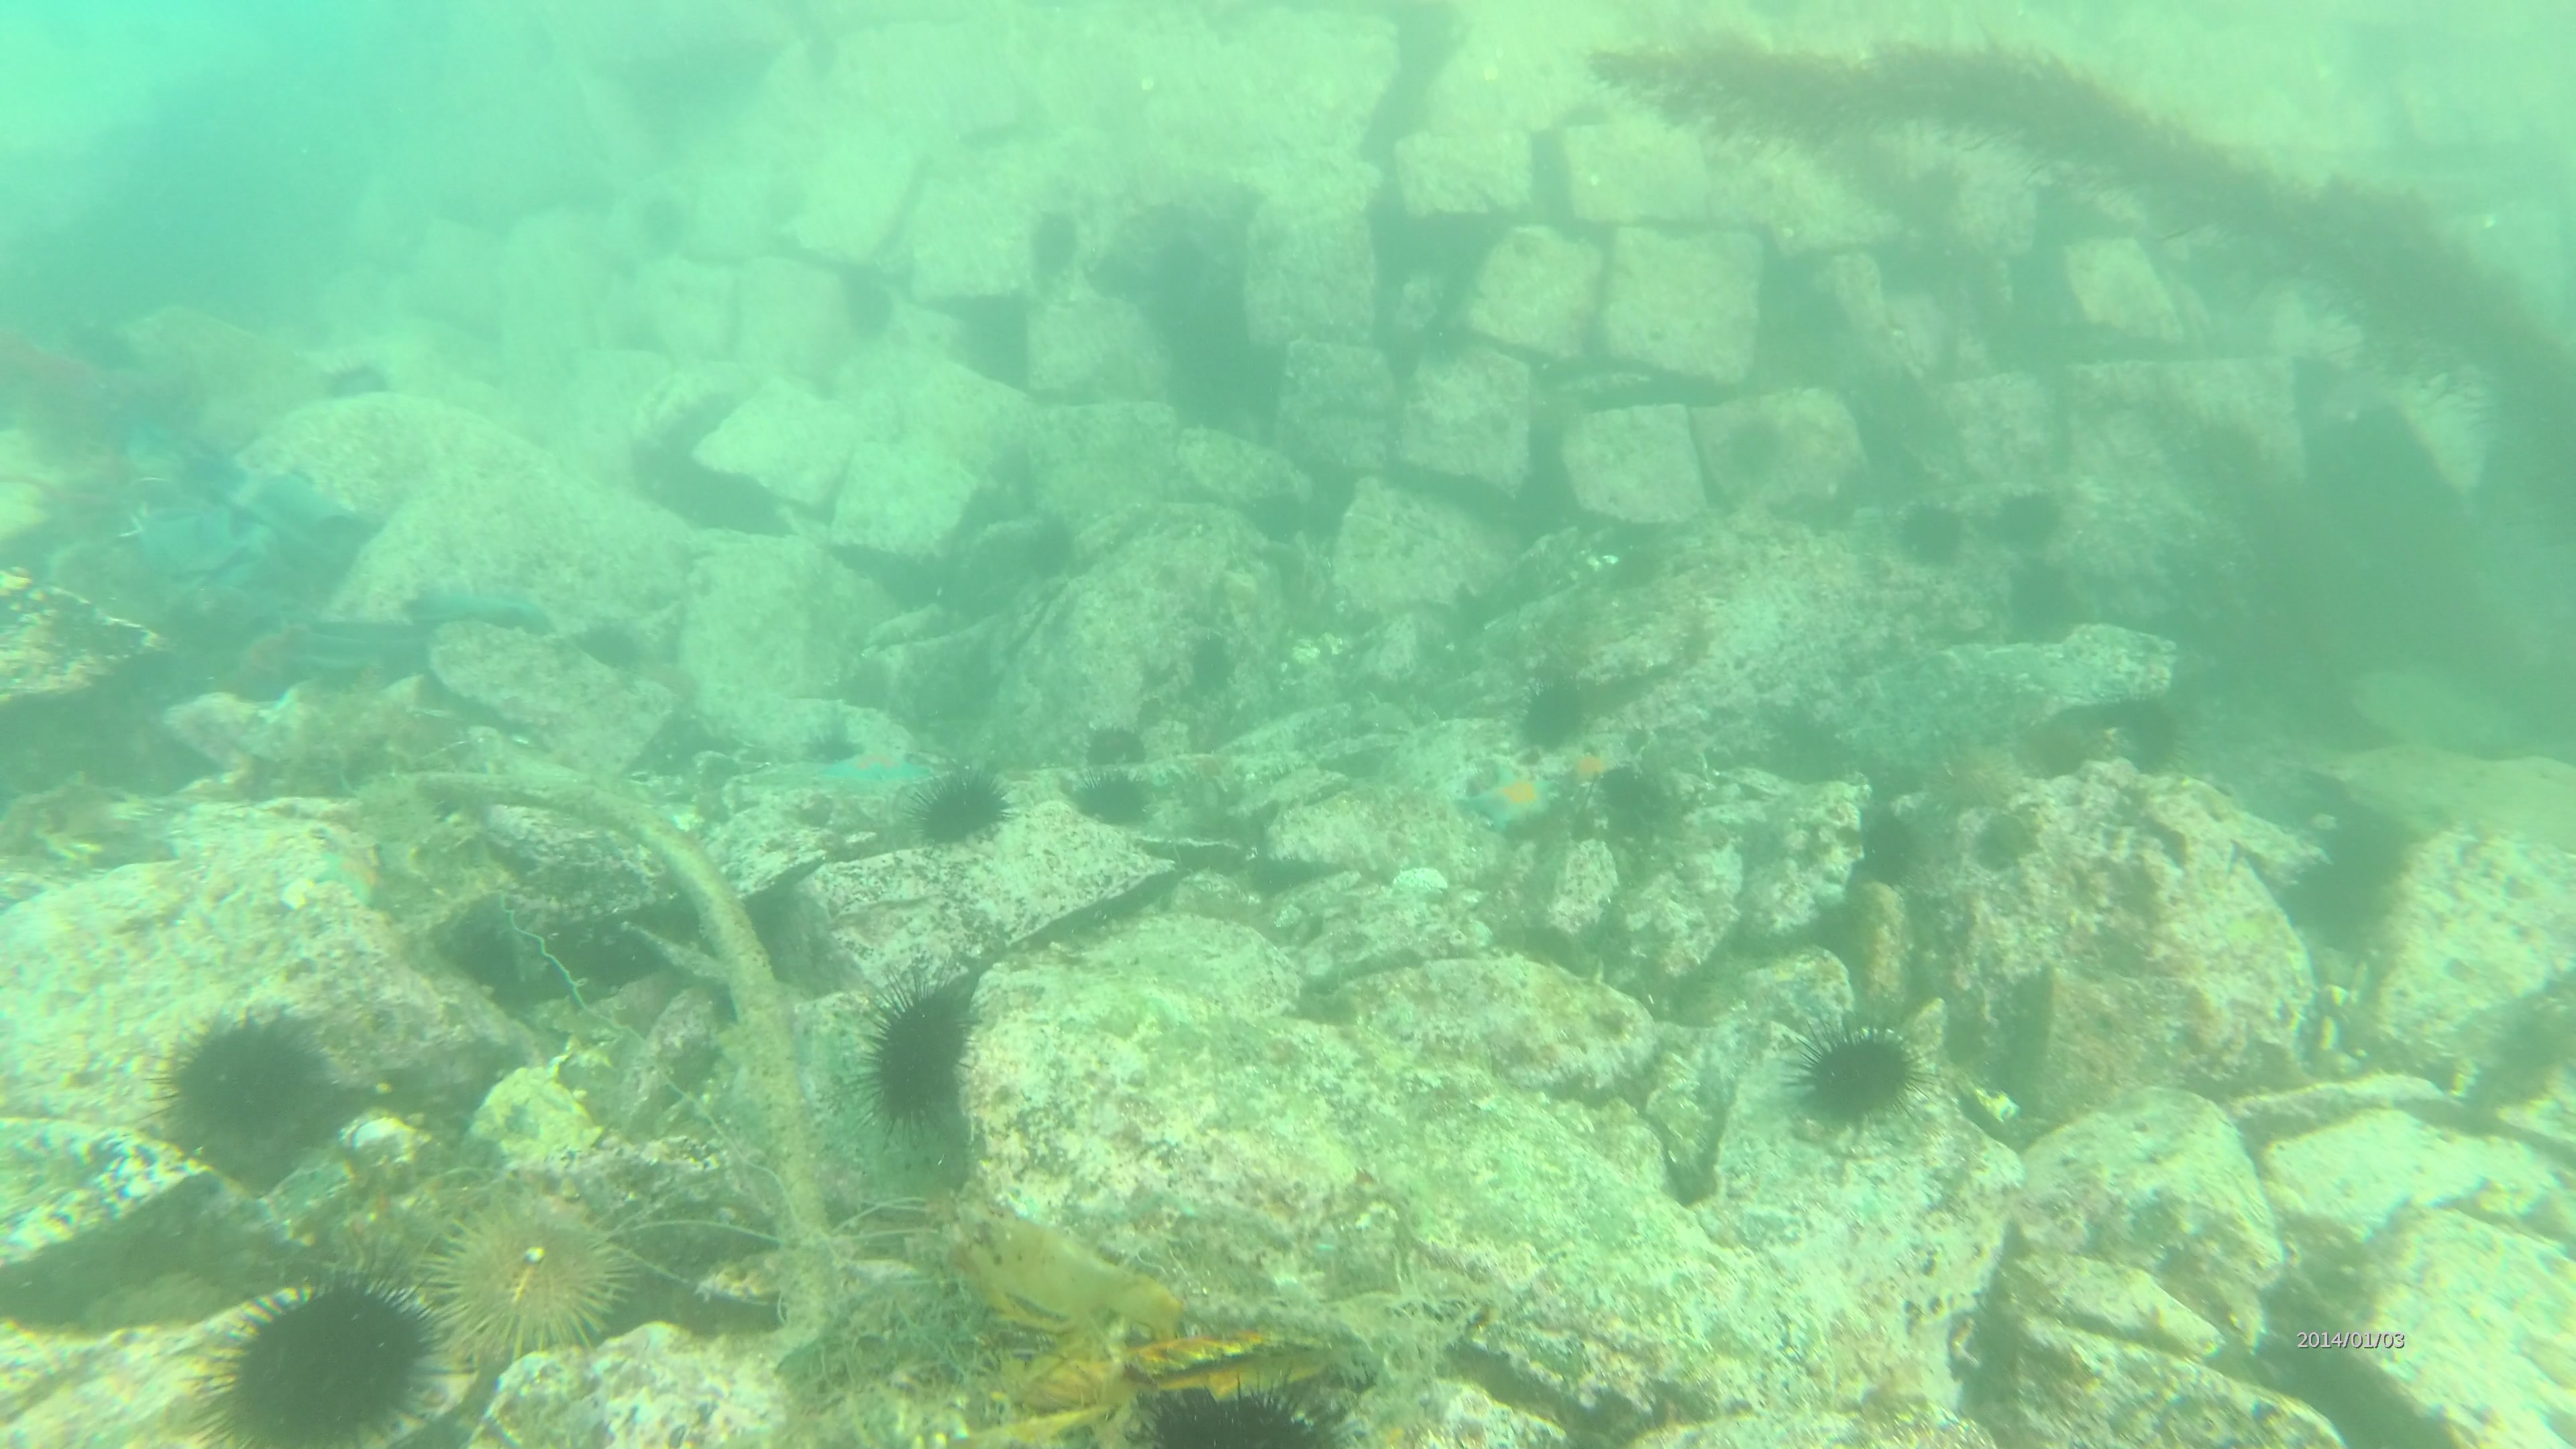echinus: (209, 1254, 448, 1449), (433, 1182, 619, 1362), (157, 1008, 329, 1136), (1134, 1361, 1359, 1449), (840, 975, 978, 1118), (1785, 1014, 1936, 1131), (1916, 743, 2026, 816), (913, 770, 1005, 837), (1886, 497, 1960, 568), (1069, 770, 1146, 828), (1990, 490, 2065, 550), (1085, 720, 1143, 778)
starfish: (1458, 757, 1564, 840), (819, 738, 906, 794)
